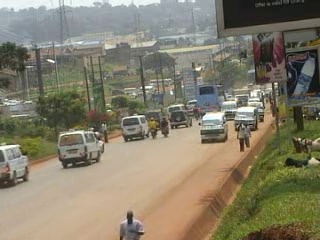Car: (165, 108, 193, 130), (94, 132, 108, 155)
Motorcycle: (146, 115, 159, 140), (158, 115, 169, 139), (189, 102, 202, 121)
